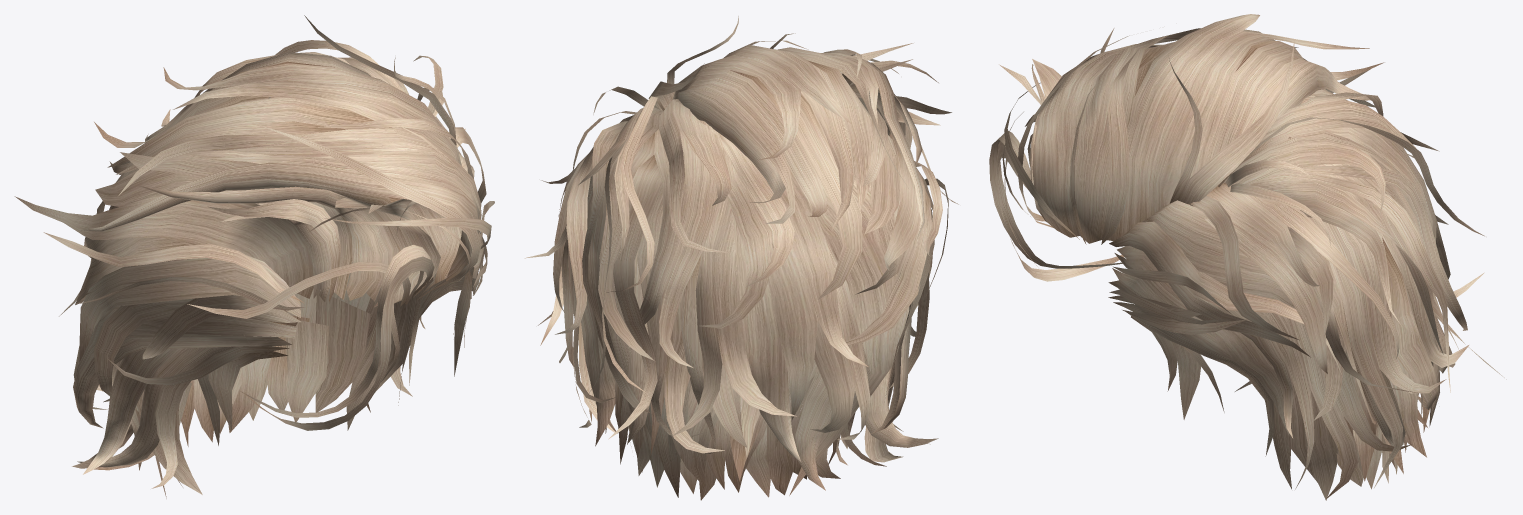
File: womanhair2-transformed.glb
3 renders of one model, left to right at view 1: azimuth 30°, elevation 25°; view 2: azimuth 150°, elevation 25°; view 3: azimuth 270°, elevation 25°, orthographic. The views are drawn at different scales.
Parts seen in each view (by area): view 1: 6; view 2: 6; view 3: 6.
Part boxes in pixels (left/top/right/bottom): 6: left=14, top=15, right=494, bottom=498; 6: left=524, top=16, right=958, bottom=500; 6: left=989, top=14, right=1506, bottom=500.
Bounding box in the file's own units: 0.493 × 0.4918 × 0.5238.
1 material, 1 textured.
